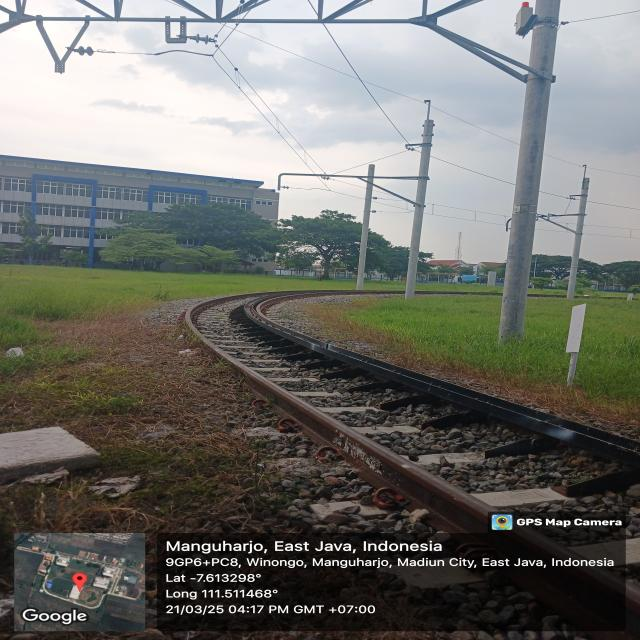rail-detection: (245, 299, 640, 466), (201, 336, 501, 534), (509, 568, 625, 629), (504, 528, 580, 562)
